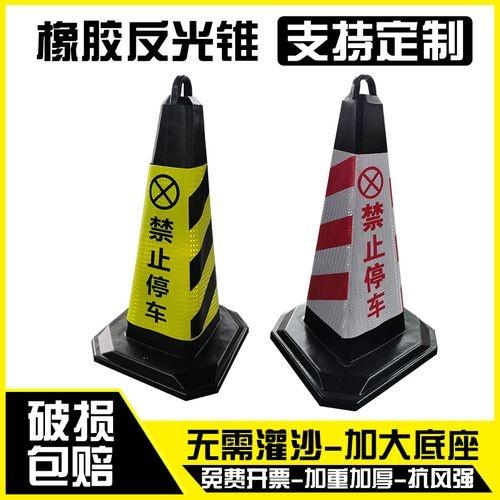cone_barrel: (274, 77, 430, 390), (105, 72, 247, 383)
